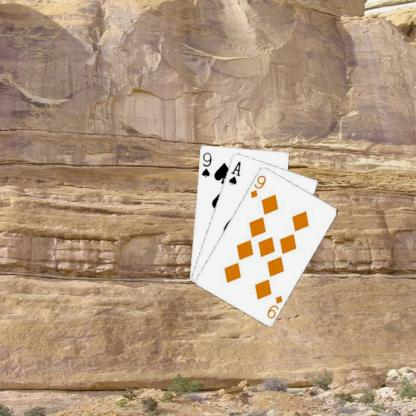9D: (264, 292, 284, 320), (247, 172, 267, 199)
9S: (199, 150, 213, 178)
AS: (226, 158, 242, 186)
